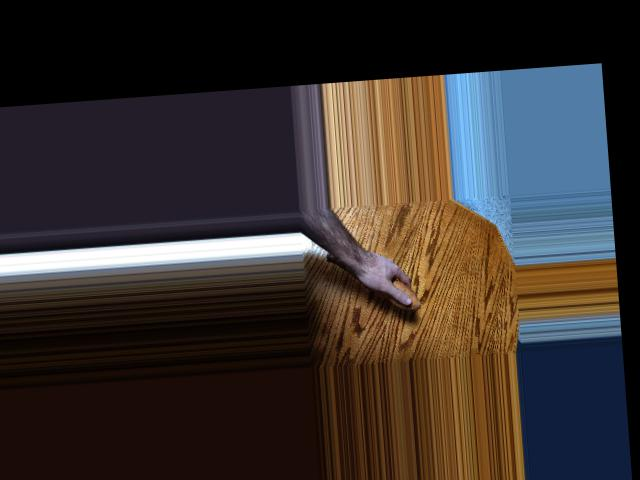sweet_potato: (323, 245, 420, 317)
